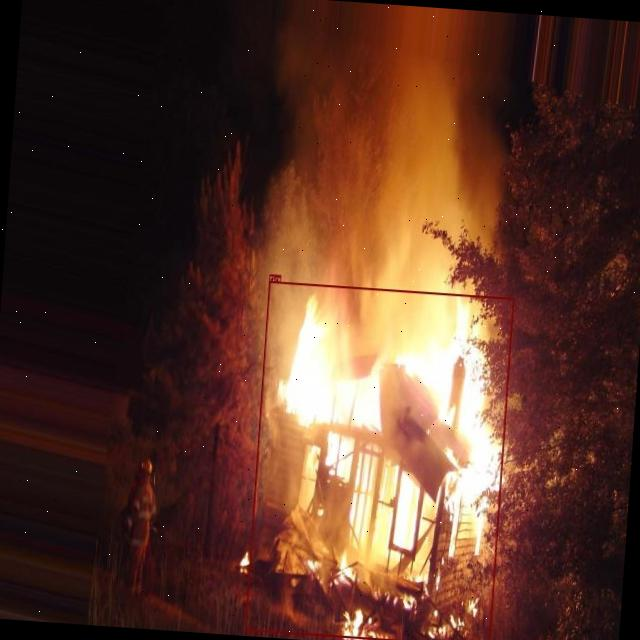fire: (244, 280, 513, 640)
